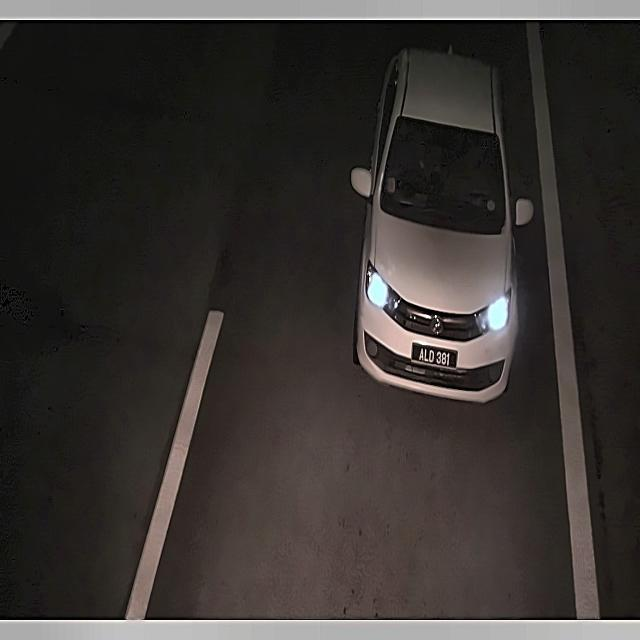car: (409, 338, 462, 376)
